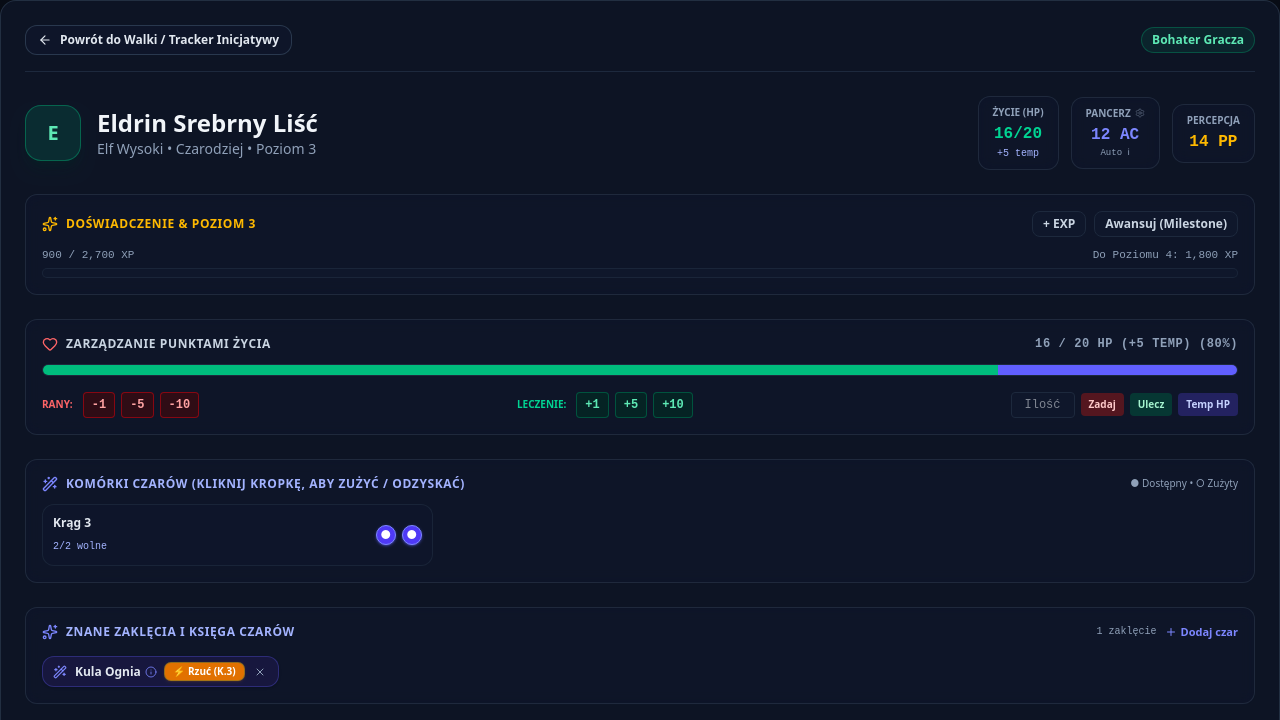
CharacterInspectionCard Component (Chunk 3.2) › opens spell details modal on info button click and allows casting from modal
Note: Click info button to open SpellDetailModal
Click the button with test id "spell-info-btn-Kula Ognia": coordinates (116, 672) [75,664,157,680]
(page scrolled)
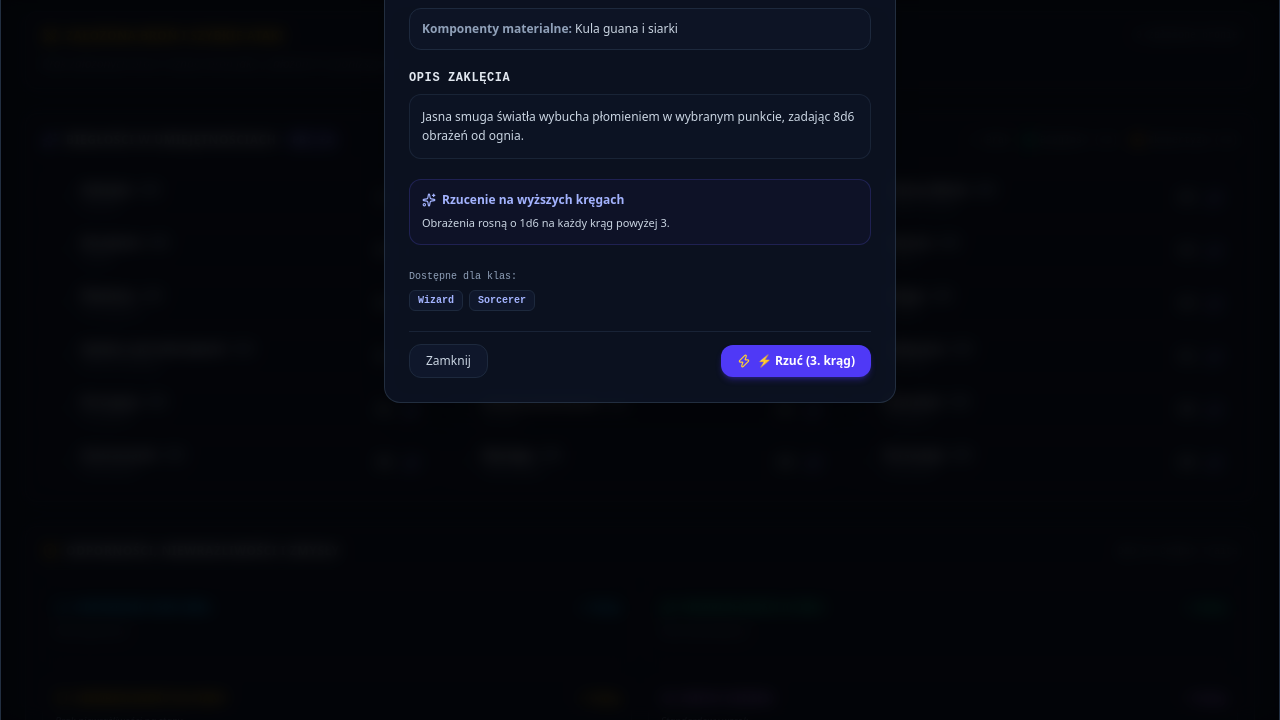
Result: the heading "Opis Zaklęcia" is shown at [409,71,510,85]
Result: the text "Jasna smuga światła wybucha płomieniem w wybranym punkcie" is shown at [422,108,854,144]
Result: the button with test id "modal-cast-spell-btn" is shown
Click the button with test id "modal-cast-spell-btn": coordinates (796, 361) [721,345,871,377]
(page scrolled)
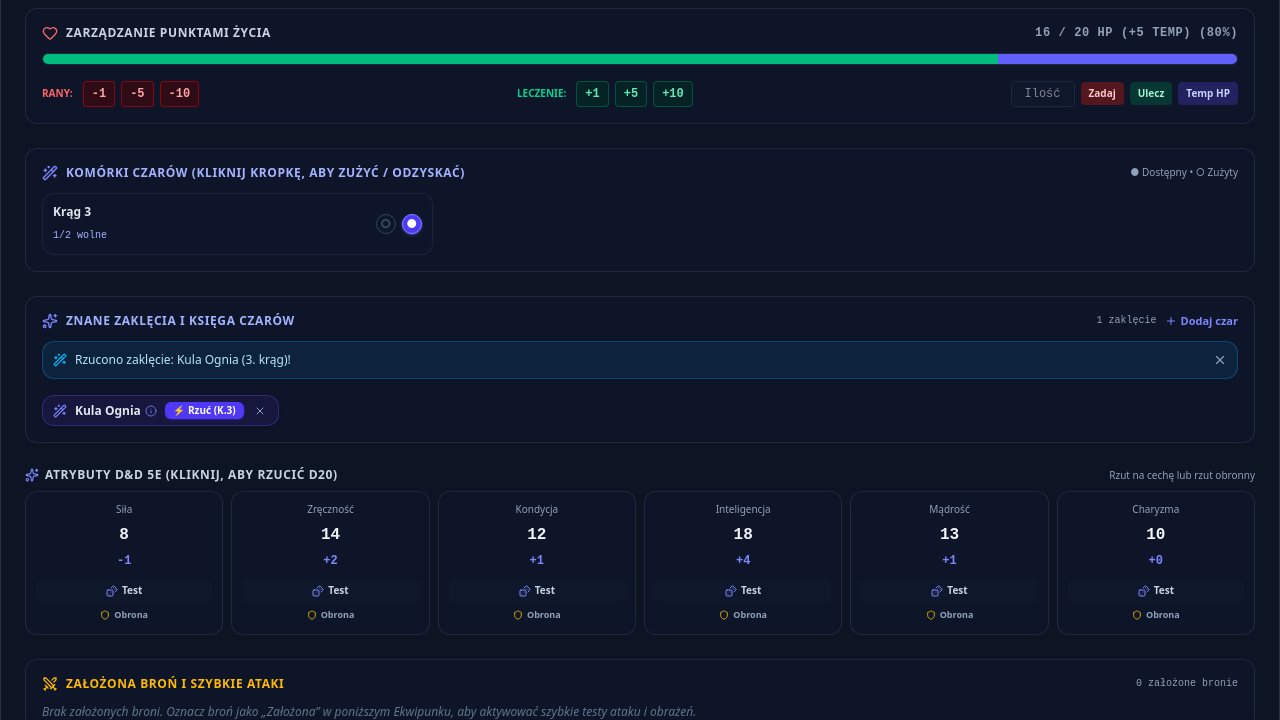
Result: the element with test id "spell-cast-feedback" is shown at [42,341,1238,379]
